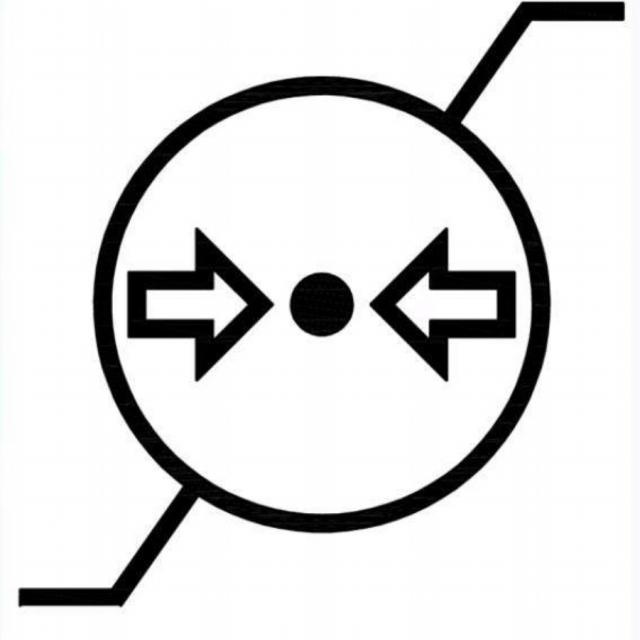Atmospheric pressure limitation: (14, 3, 633, 612)
